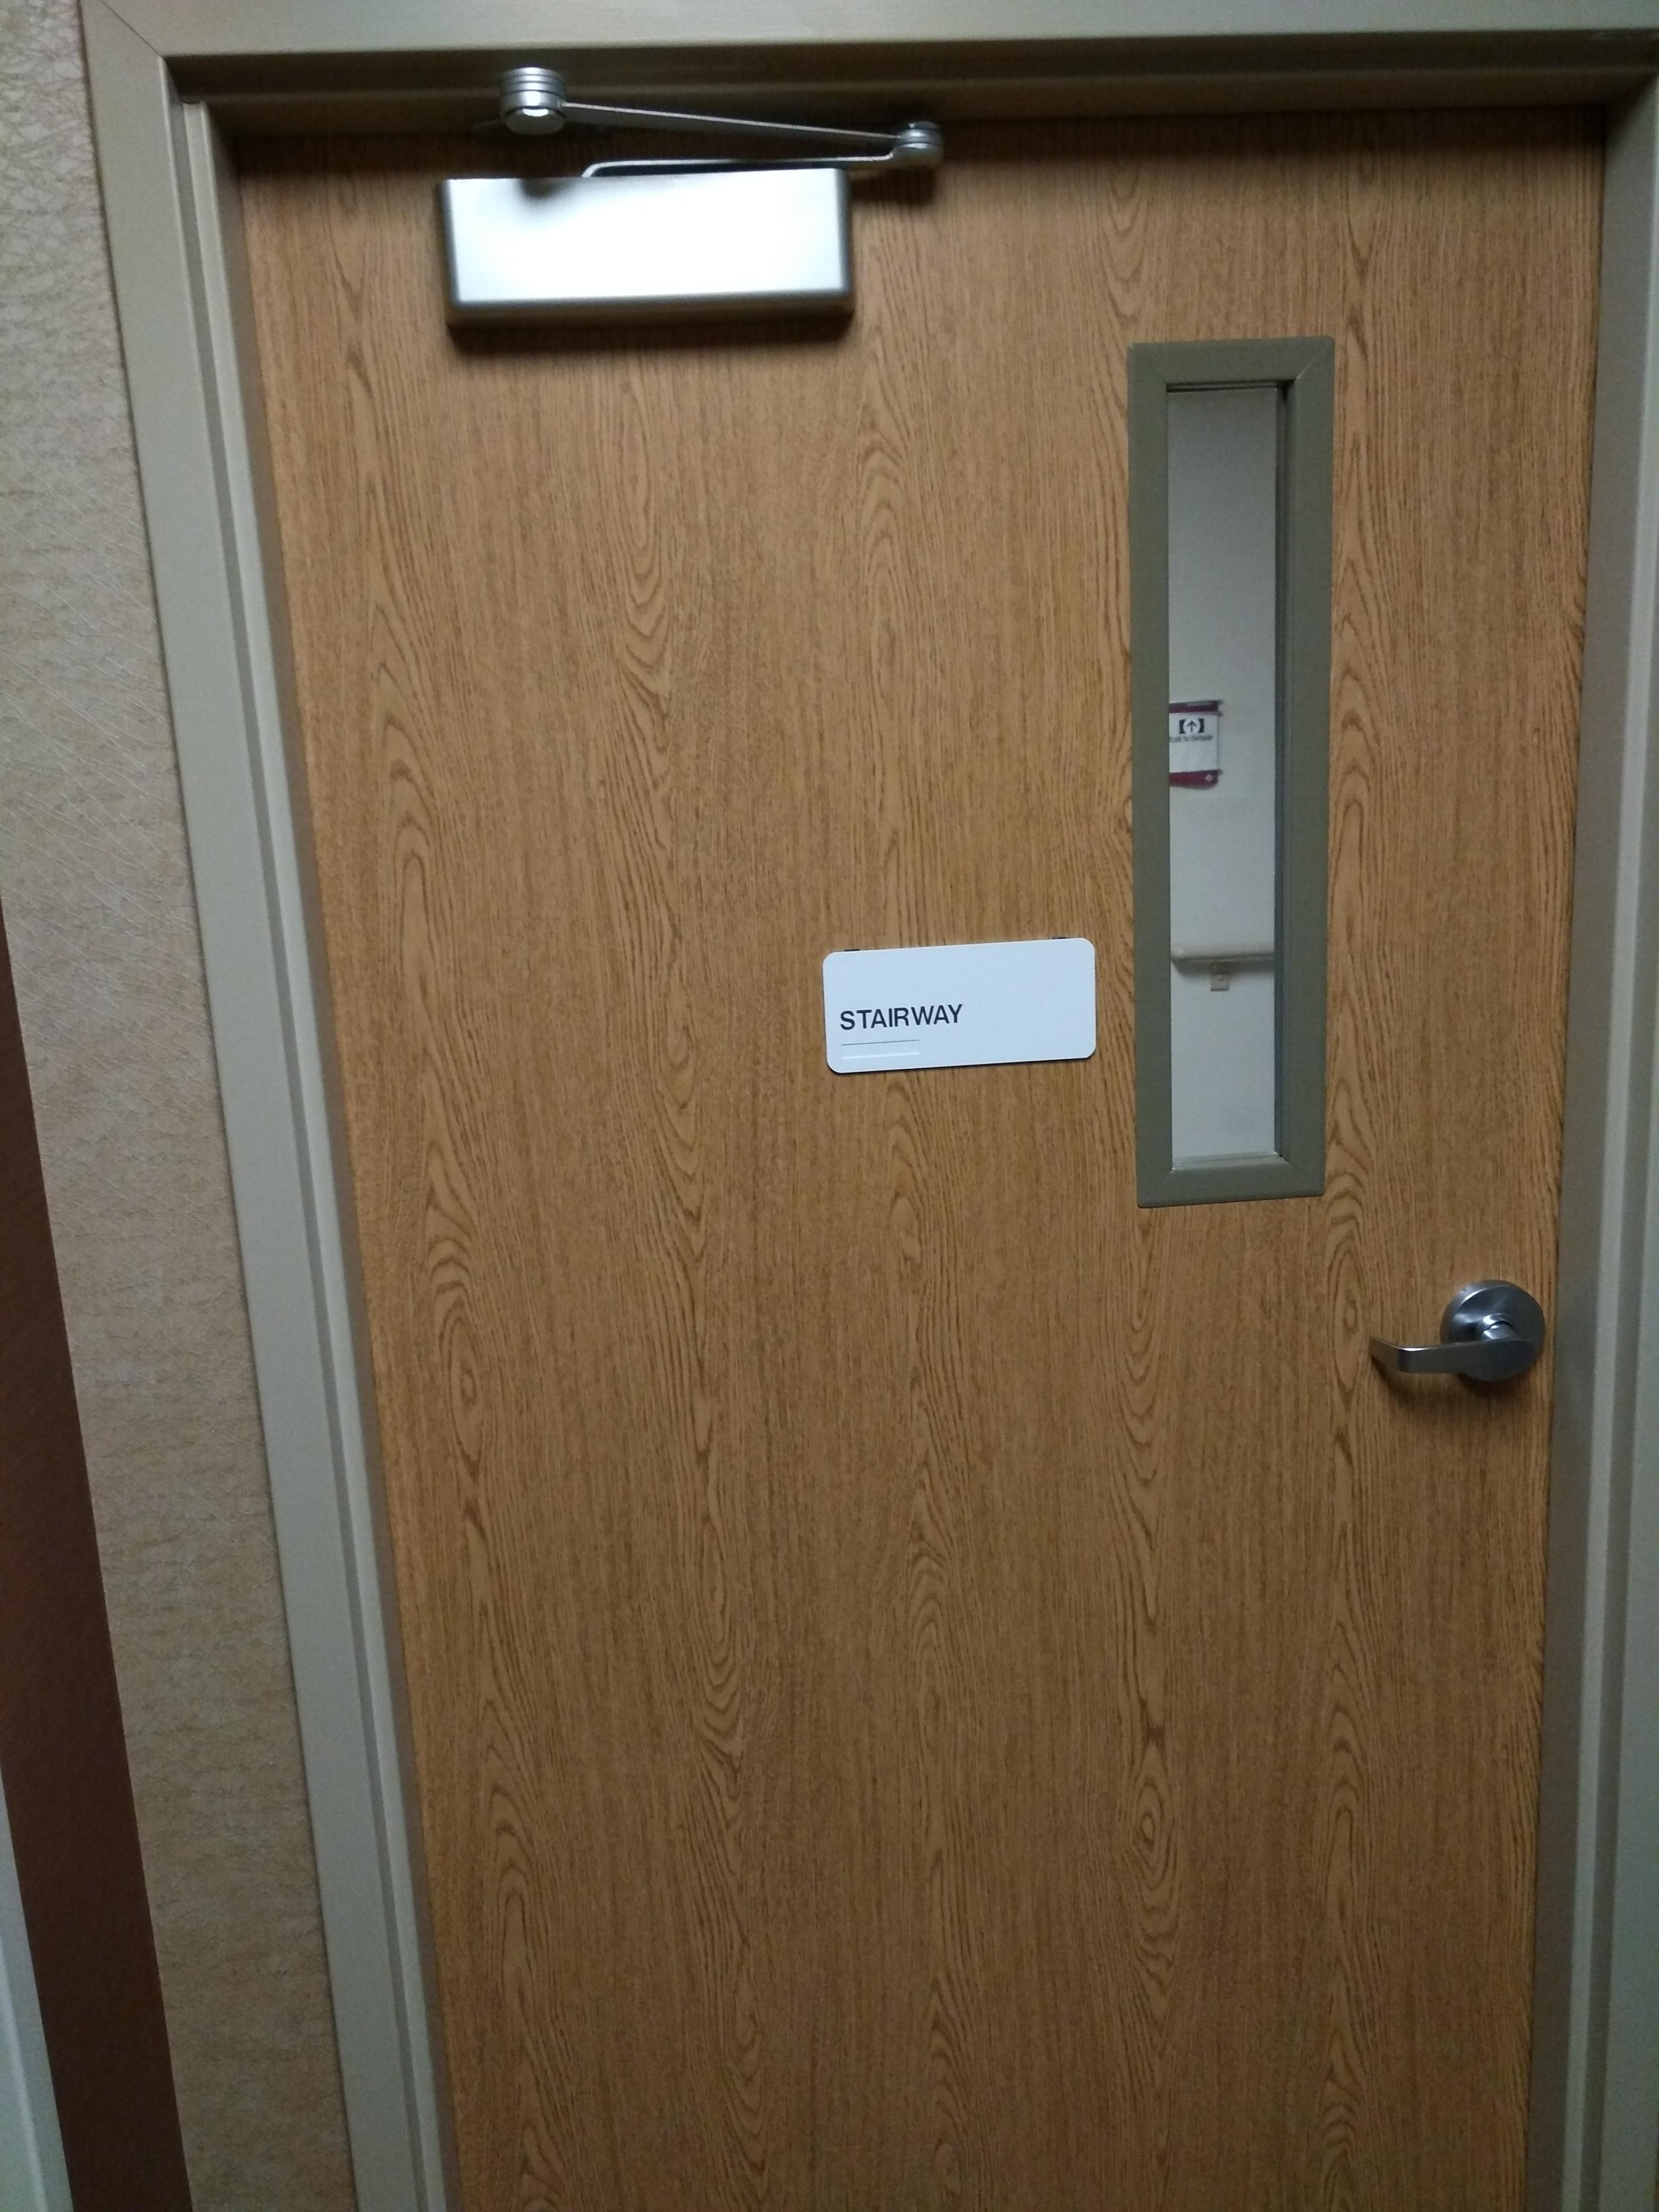door: (213, 51, 1629, 2209)
